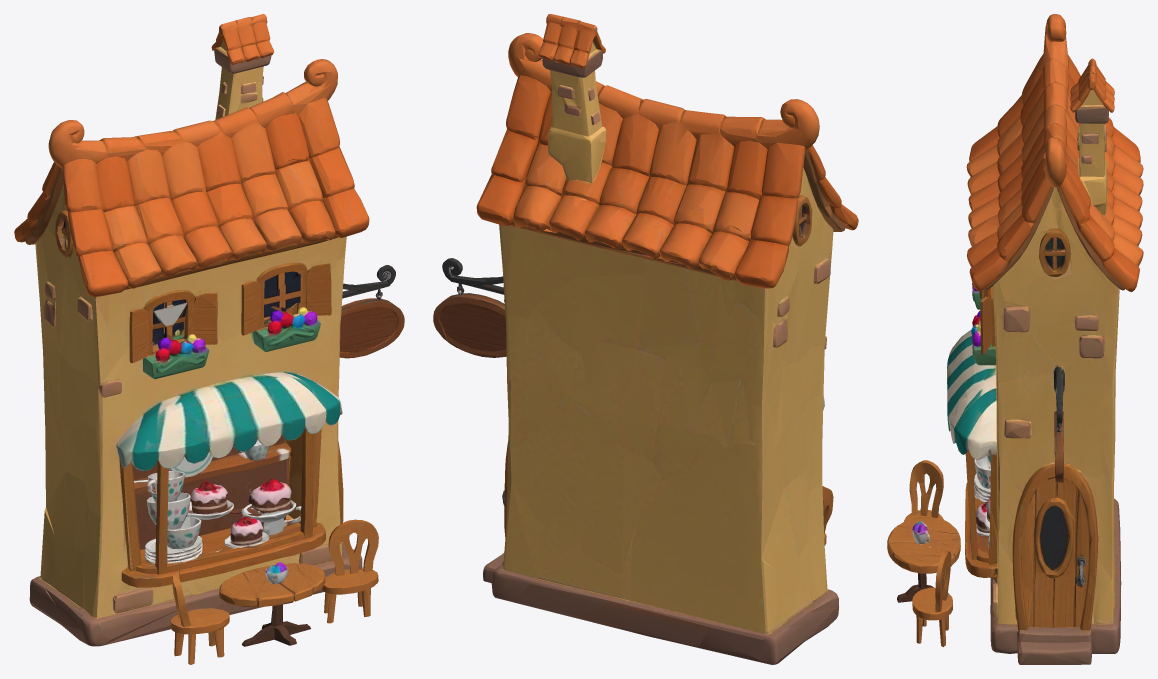
The model's file is shop_cafe.glb.
The picture shows the model from 3 angles, left to right: view 1: azimuth 30°, elevation 25°; view 2: azimuth 150°, elevation 25°; view 3: azimuth 270°, elevation 25°; orthographic projection. The views are drawn at different scales.
Size of the model in its own units: 7.5 by 11 by 4.6.
Materials: 1 (1 with a texture image).
